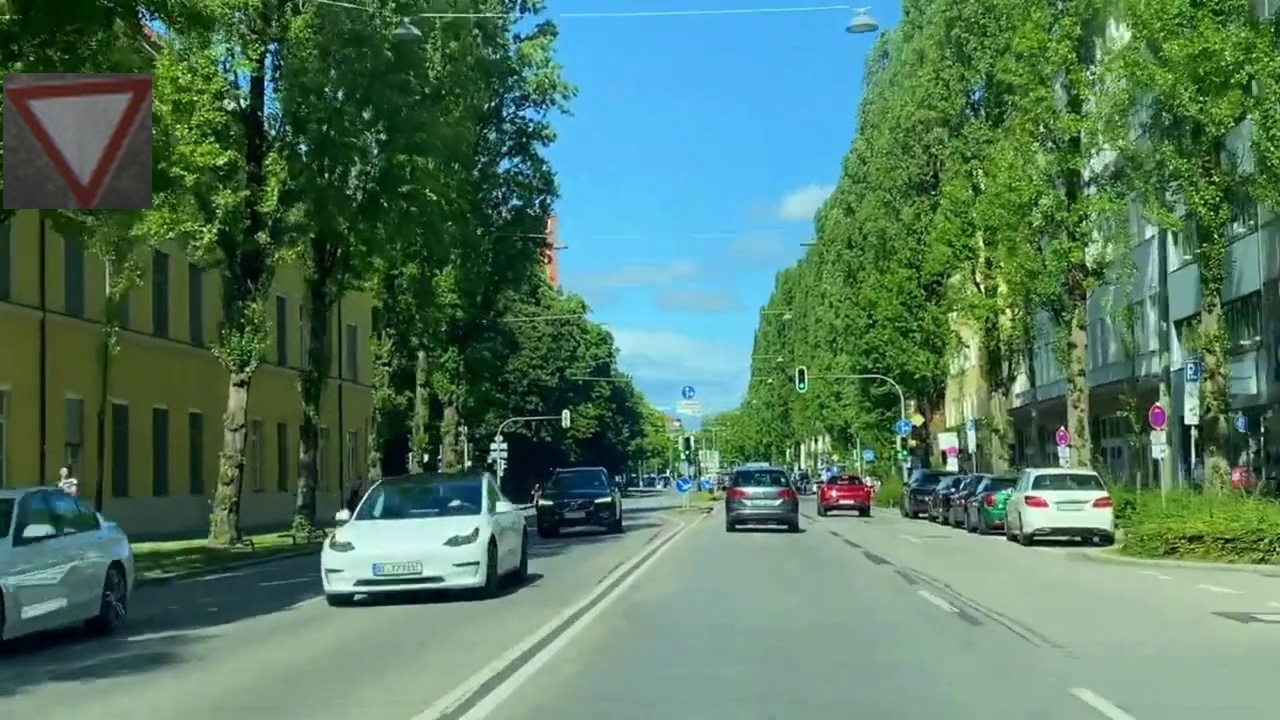Yield: (3, 73, 152, 209)
